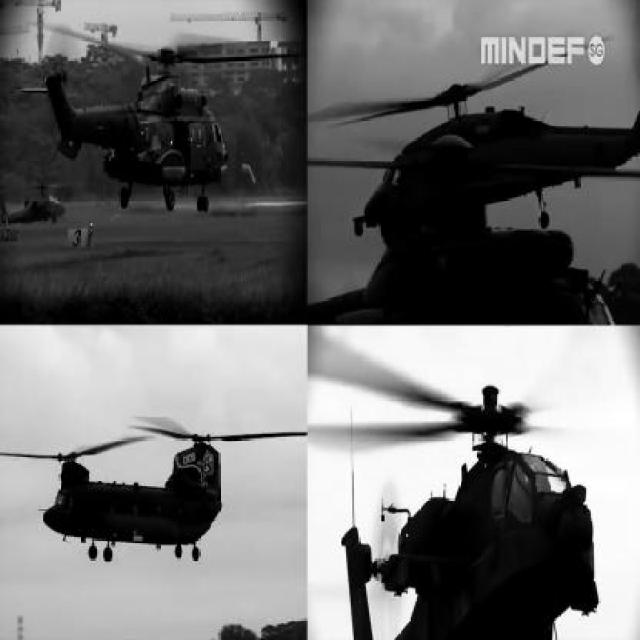Helicopter: (308, 327, 640, 639), (310, 36, 640, 237), (20, 23, 300, 212), (1, 413, 306, 564), (1, 177, 70, 225)
